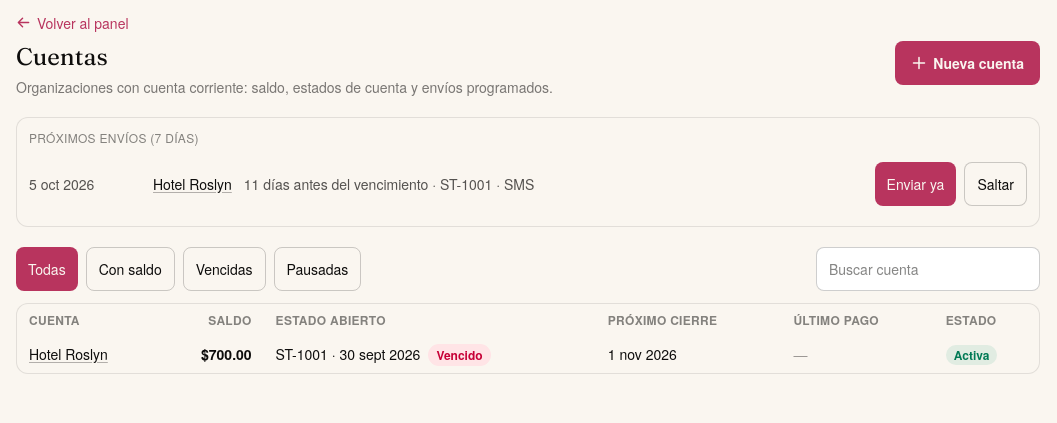
Scenario: AccountsView › Enviar ya › confirms when the send really went out
Click the button "Enviar ya" at (915, 184), box x1=874 y1=162 x2=956 y2=206
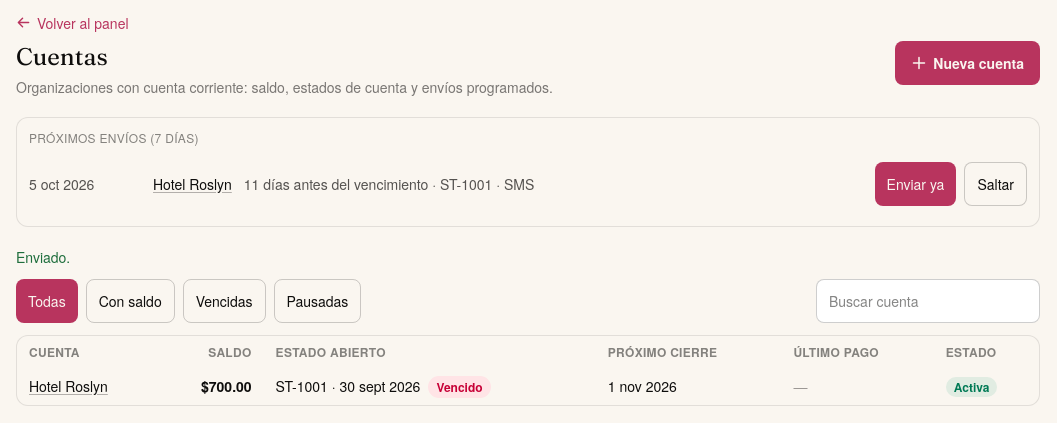
Result: the text "Enviado." is shown at x1=16 y1=246 x2=70 y2=266
